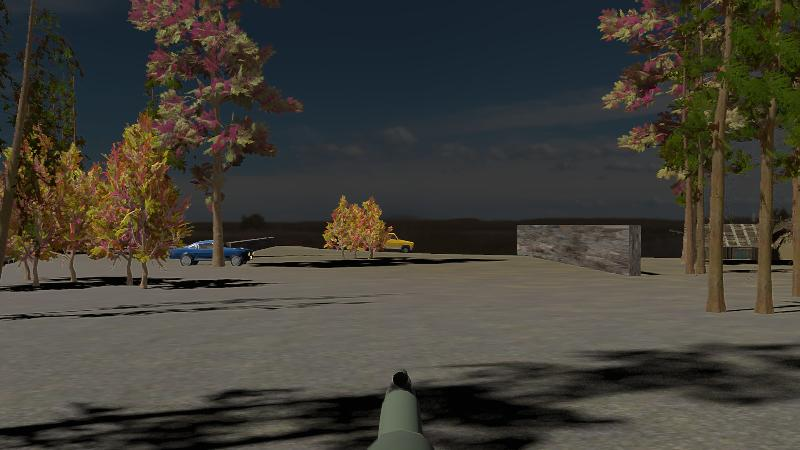House: (670, 222, 768, 264)
car: (168, 239, 253, 268), (380, 230, 415, 254)
